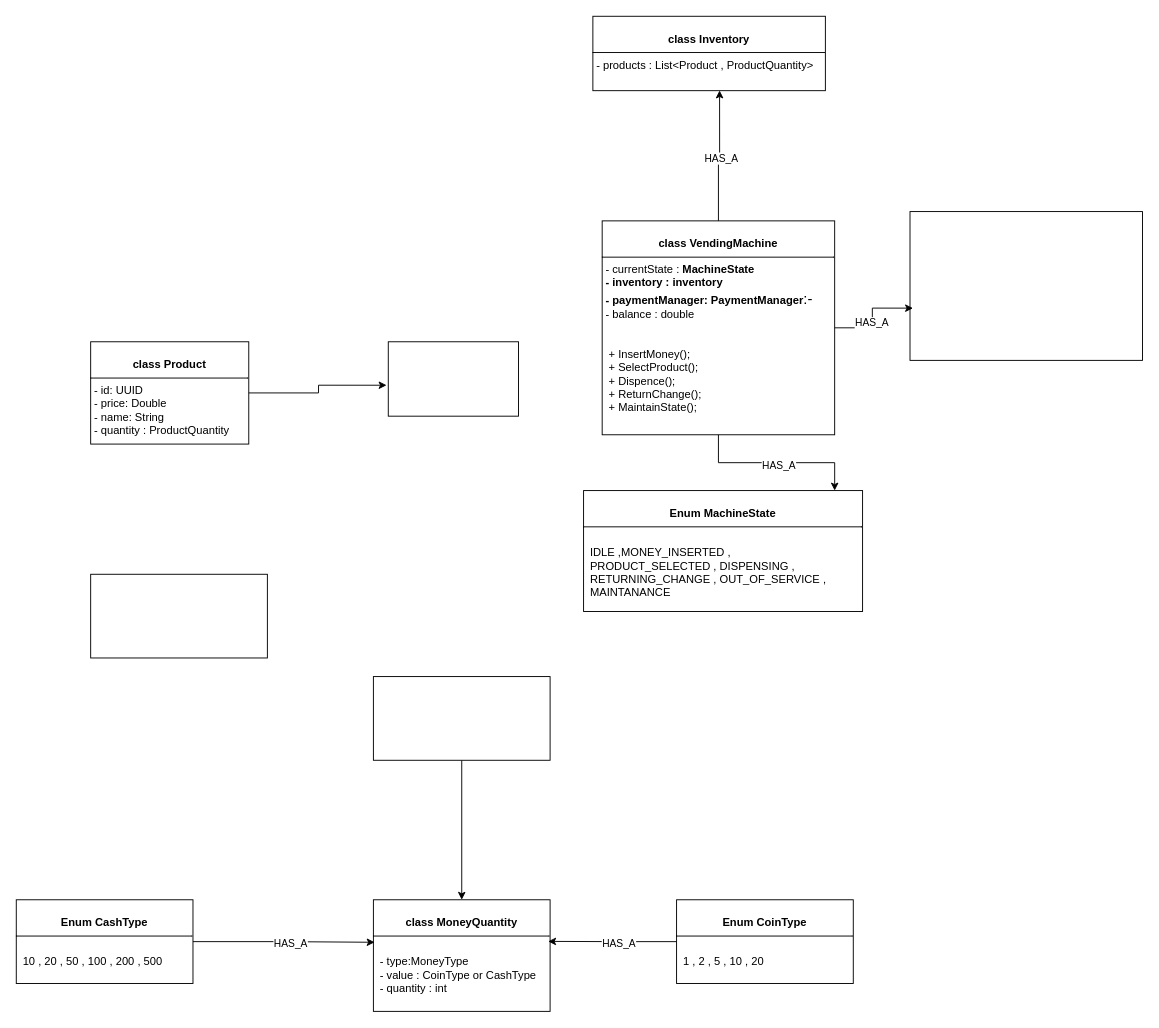
This 1159x1028 diagram has some shape labels left out. The centre of each missing label's shape, as x and y in pixels:
"class PaymentManager - moneyStore : MoneyQauntity -" goes at (1026,285).
"class ProductQuantity - id: UUID - quantity: int" goes at (452,378).
"Enum MoneyType COIN , CASH" goes at (461,718).
"Enum UserType CUSTOMER , ADMIN" goes at (178,615).
